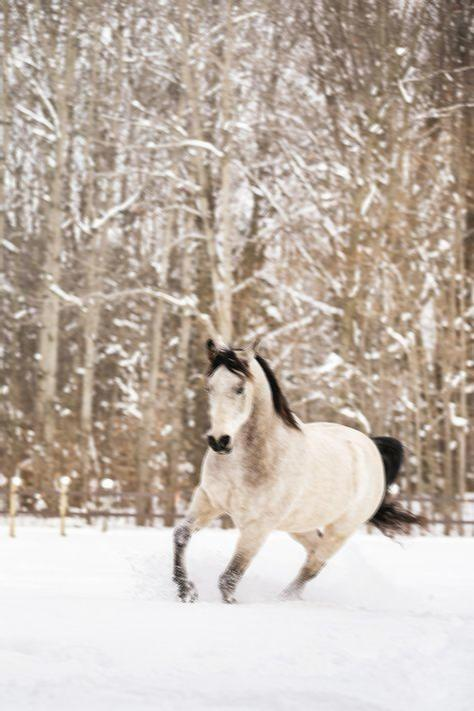horse: (171, 335, 430, 604)
